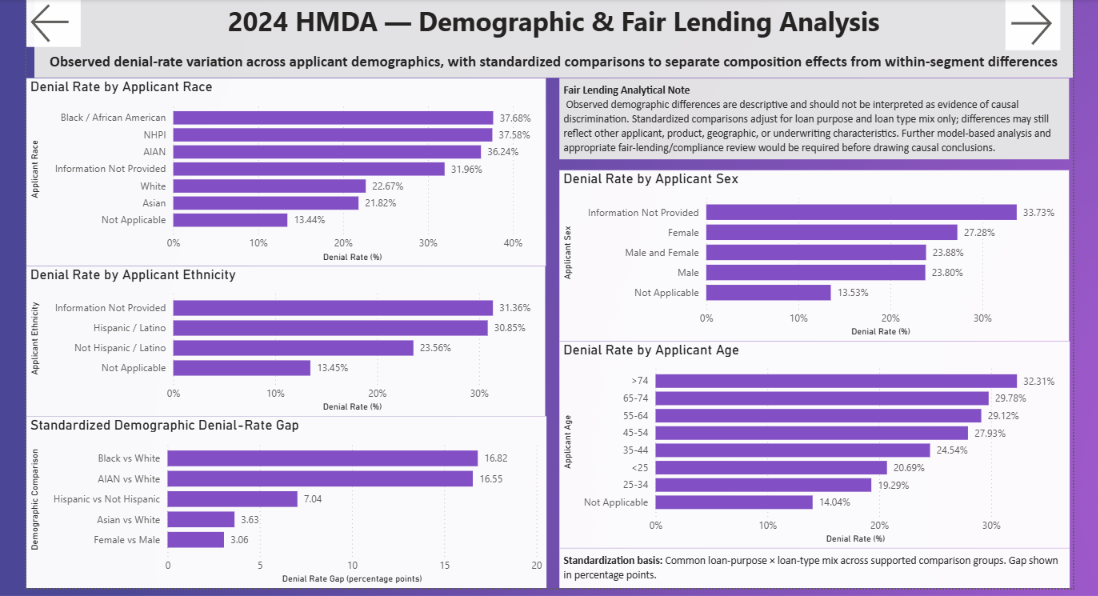

What the dashboard file says about the page in this screenshot:
{"tool":"powerbi","page":{"name":"Demographic & Fair Lending Analysis","canvas":[1280,720],"ordinal":3},"visuals":[{"type":"textbox","box":[10,0,1270,96.2],"z":0},{"type":"clusteredBarChart","title":"Denial Rate by Applicant Race","fields":{"Category":["hmda_credit_risk vw_demographic_risk.demographic_category"],"Y":["Sum(hmda_credit_risk vw_demographic_risk.denial_rate)"]},"box":[0,96.5,634.9,229.5],"z":1000},{"type":"clusteredBarChart","title":"Denial Rate by Applicant Ethnicity","fields":{"Category":["hmda_credit_risk vw_demographic_risk.demographic_category"],"Y":["Sum(hmda_credit_risk vw_demographic_risk.denial_rate)"]},"box":[0,326.5,634.7,183.4],"z":2000},{"type":"clusteredBarChart","title":"Denial Rate by Applicant Sex","fields":{"Category":["hmda_credit_risk vw_demographic_risk.demographic_category"],"Y":["Sum(hmda_credit_risk vw_demographic_risk.denial_rate)"]},"box":[651.7,208.7,623.4,208.7],"z":3000},{"type":"clusteredBarChart","title":"Denial Rate by Applicant Age","fields":{"Category":["hmda_credit_risk vw_demographic_risk.demographic_category"],"Y":["Sum(hmda_credit_risk vw_demographic_risk.denial_rate)"]},"box":[651.8,418.2,623.6,253.1],"z":4000},{"type":"clusteredBarChart","title":"Standardized Demographic Denial-Rate Gap","fields":{"Category":["hmda_credit_risk vw_demographic_standardized.comparison"],"Y":["Avg(hmda_credit_risk vw_demographic_standardized.gap_pp)"]},"box":[0,509.9,635.9,210.3],"z":5000},{"type":"textbox","box":[651.7,96.6,623.4,99.2],"z":6000},{"type":"textbox","box":[651.8,671.3,623.6,48.9],"z":7000},{"type":"actionButton","box":[1197.2,0,67.3,62.4],"z":8000},{"type":"actionButton","box":[0,0,66,58.7],"z":9000}]}

Visuals, with their boxes on the page's 1280x720 design canvas (x1, y1, x2, y2). These are canvas units, not pixel positions in the 1098x596 screenshot, which may show the page scaled, cropped or inside an application window:
textbox: (10,0,1280,96)
"Denial Rate by Applicant Race" clusteredBarChart: (0,96,635,326)
"Denial Rate by Applicant Ethnicity" clusteredBarChart: (0,326,635,510)
"Denial Rate by Applicant Sex" clusteredBarChart: (652,209,1275,417)
"Denial Rate by Applicant Age" clusteredBarChart: (652,418,1275,671)
"Standardized Demographic Denial-Rate Gap" clusteredBarChart: (0,510,636,720)
textbox: (652,97,1275,196)
textbox: (652,671,1275,720)
actionButton: (1197,0,1264,62)
actionButton: (0,0,66,59)
